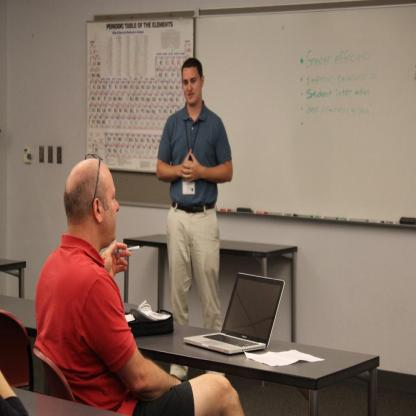board: (182, 268, 284, 356)
